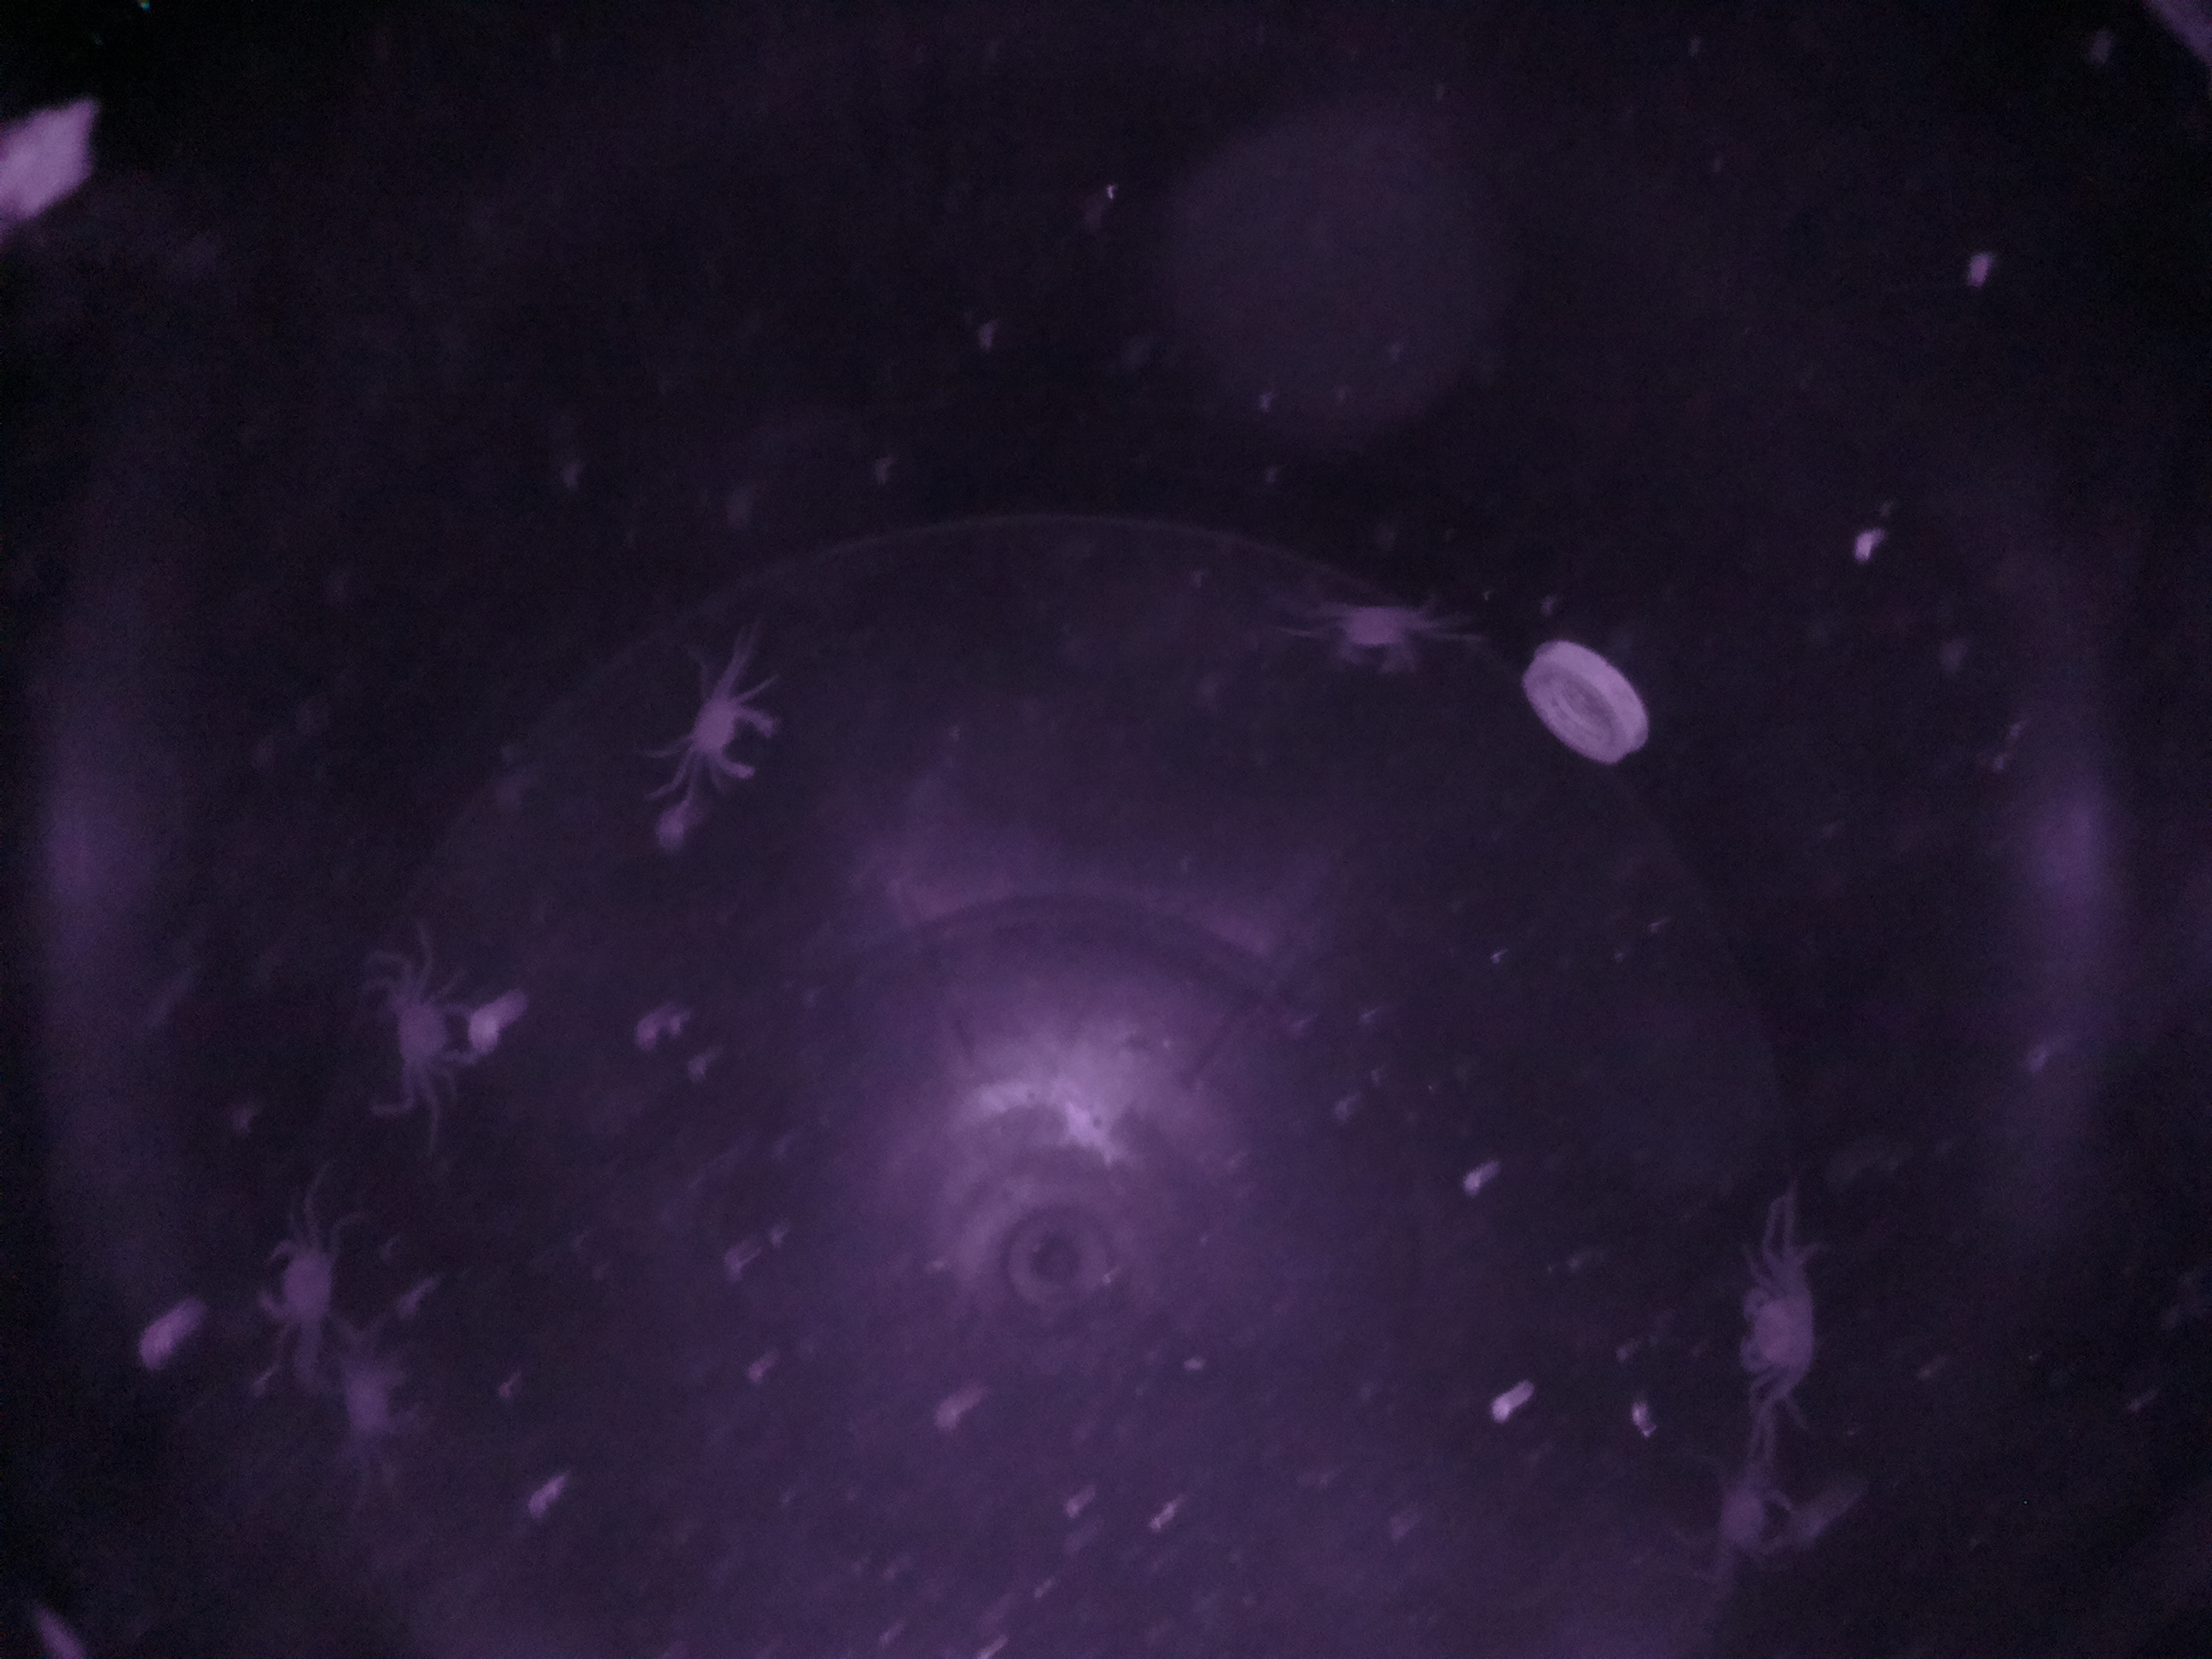Crab: (662, 671, 786, 798), (373, 971, 496, 1094), (1723, 1260, 1832, 1396)
